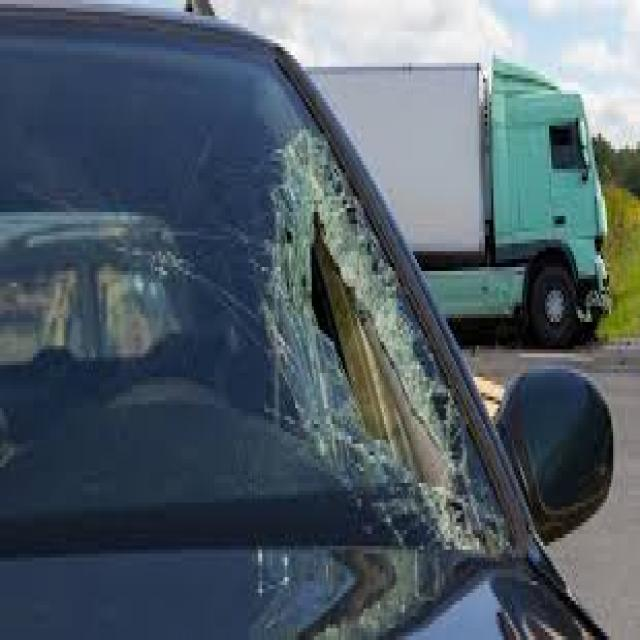accident: (160, 35, 572, 602)
